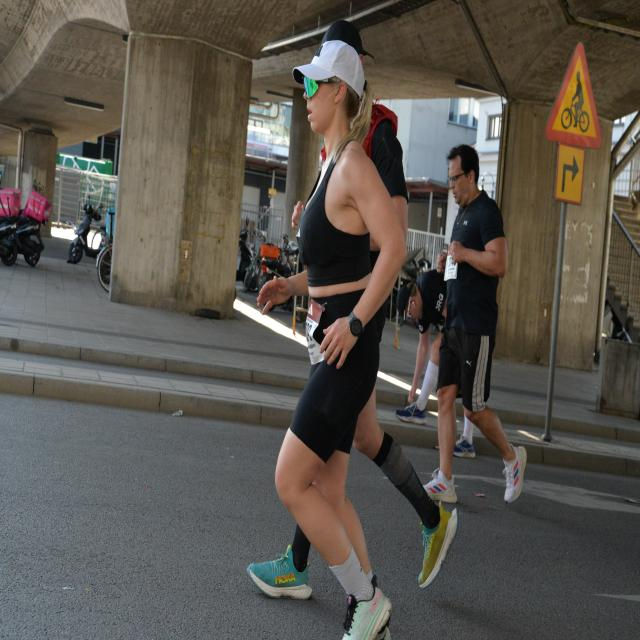runner-detect: (267, 39, 430, 640), (421, 135, 544, 507)
